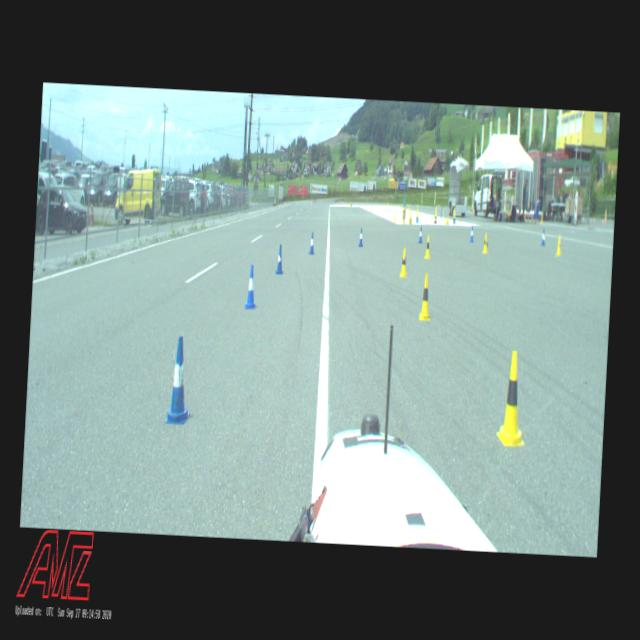blue_cone: (164, 336, 194, 424), (245, 266, 258, 310), (276, 245, 284, 274), (308, 232, 316, 255), (358, 228, 364, 247), (540, 228, 546, 246), (418, 226, 423, 243), (469, 226, 474, 242), (440, 205, 443, 217)
yellow_cone: (496, 352, 528, 444), (418, 273, 432, 320), (399, 248, 408, 277), (424, 236, 432, 258), (556, 236, 562, 256), (483, 234, 489, 252), (409, 208, 412, 225), (444, 217, 448, 225), (416, 206, 418, 217), (454, 207, 456, 218), (394, 212, 396, 222), (442, 210, 444, 218), (541, 215, 542, 224), (408, 204, 409, 210), (387, 202, 388, 206), (372, 205, 372, 212)
